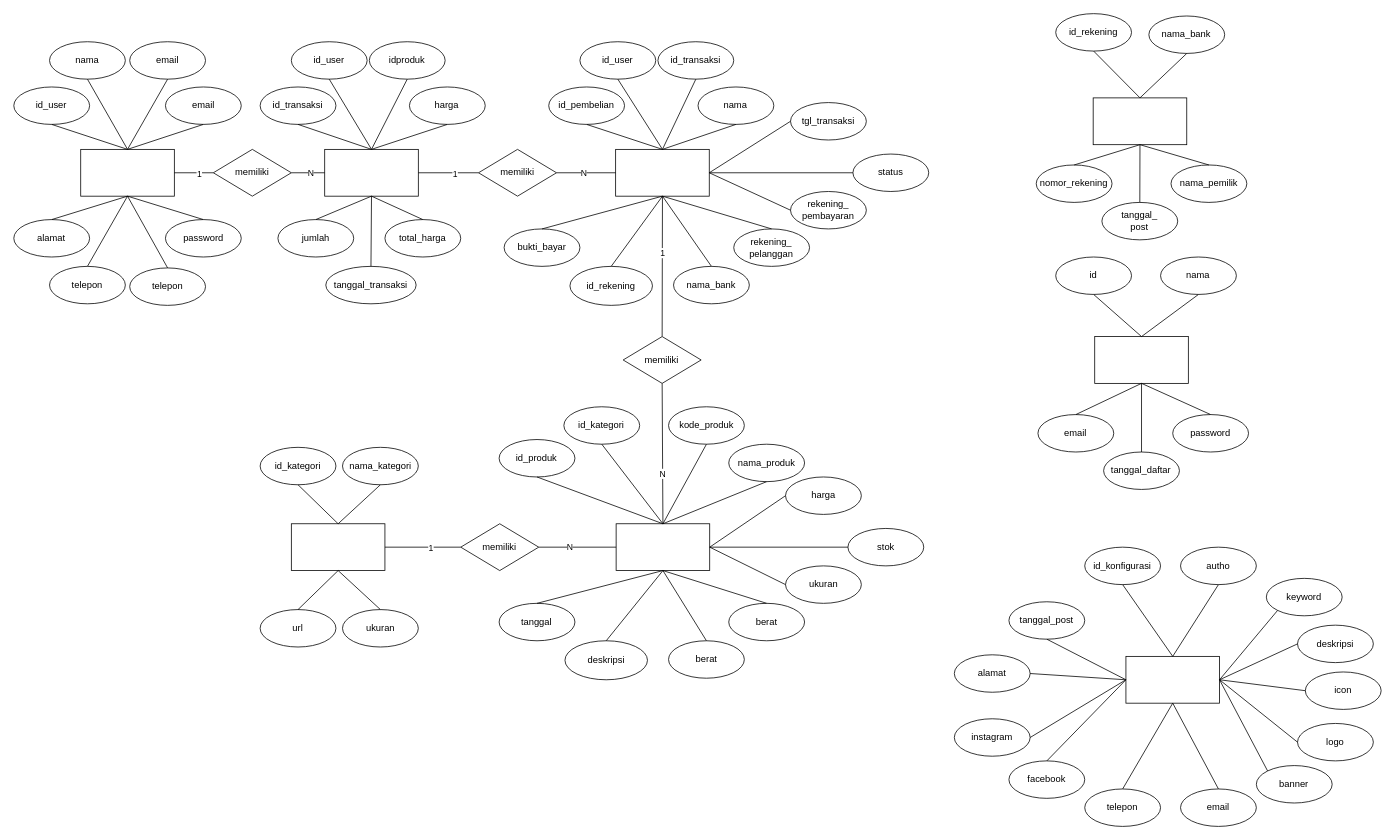
The diagram is 1395 pixels wide and 840 high, and some of its shapes have lost their labels. Here are the shapes that lost their labels. From the top down, the centre of each, then its label:
At [1139,121]: "Rekening".
At [127,172]: "User".
At [371,172]: "Transaksi".
At [662,172]: "Header_ransaksi".
At [1141,359]: "Admin".
At [338,547]: "Katetgori".
At [662,547]: "Produk".
At [1172,679]: "Konfigurasi".
